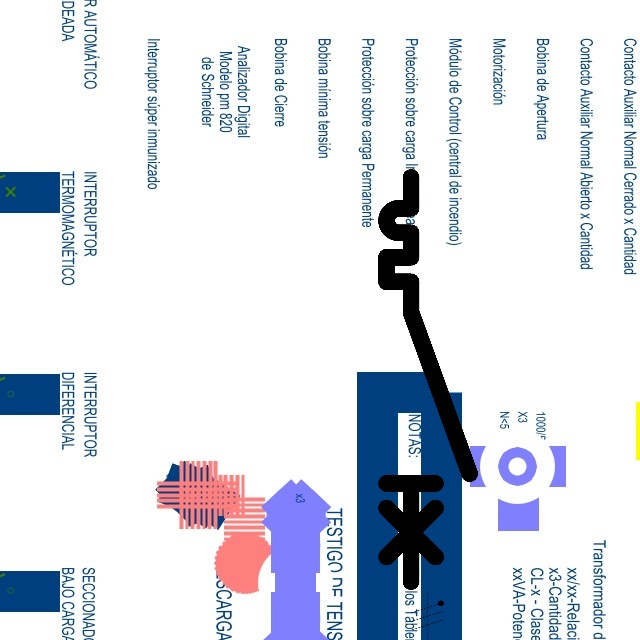interruptor_termomagnetico: (376, 167, 480, 592)
